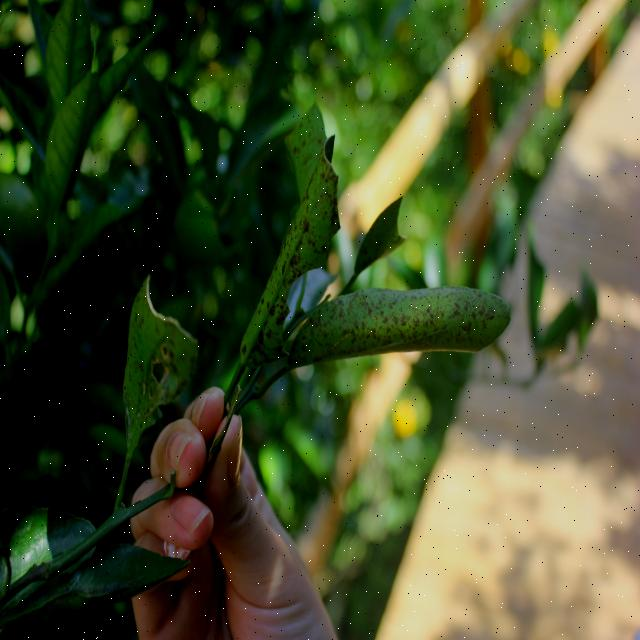melanose: (224, 136, 341, 388), (288, 272, 514, 393), (110, 267, 207, 447), (276, 100, 331, 204)
